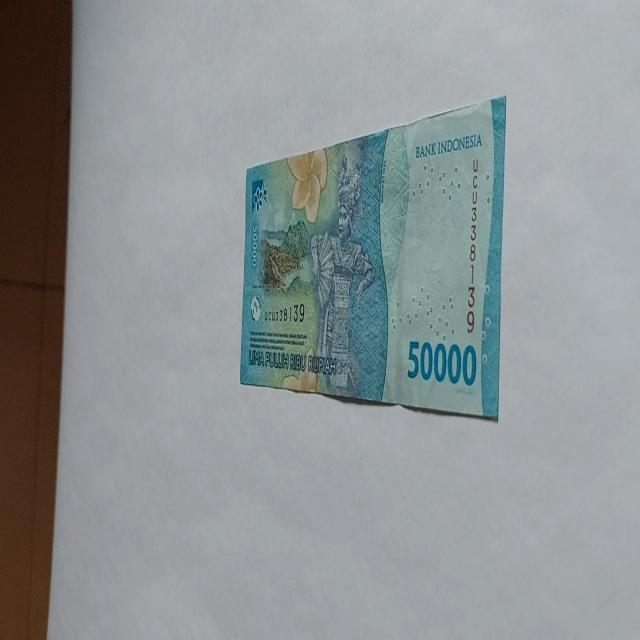lima puluh ribu rupiah: (238, 94, 508, 422)
